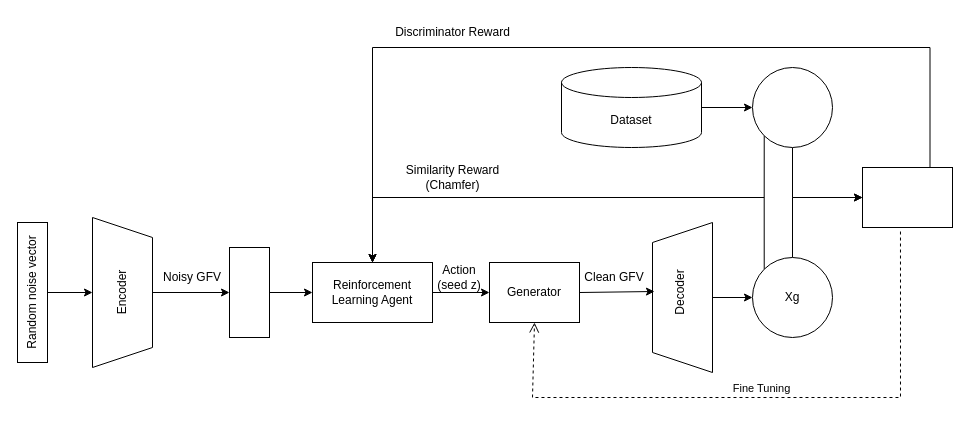
Some shapes in this 970 by 425 pixel diagram are drawn without their labels. Here are the shapes that lost their labels. From the top down, the centre of each, then its label:
At pixel 792 107: "Xr".
At pixel 907 197: "Discriminator".
At pixel 249 292: "State vector".
